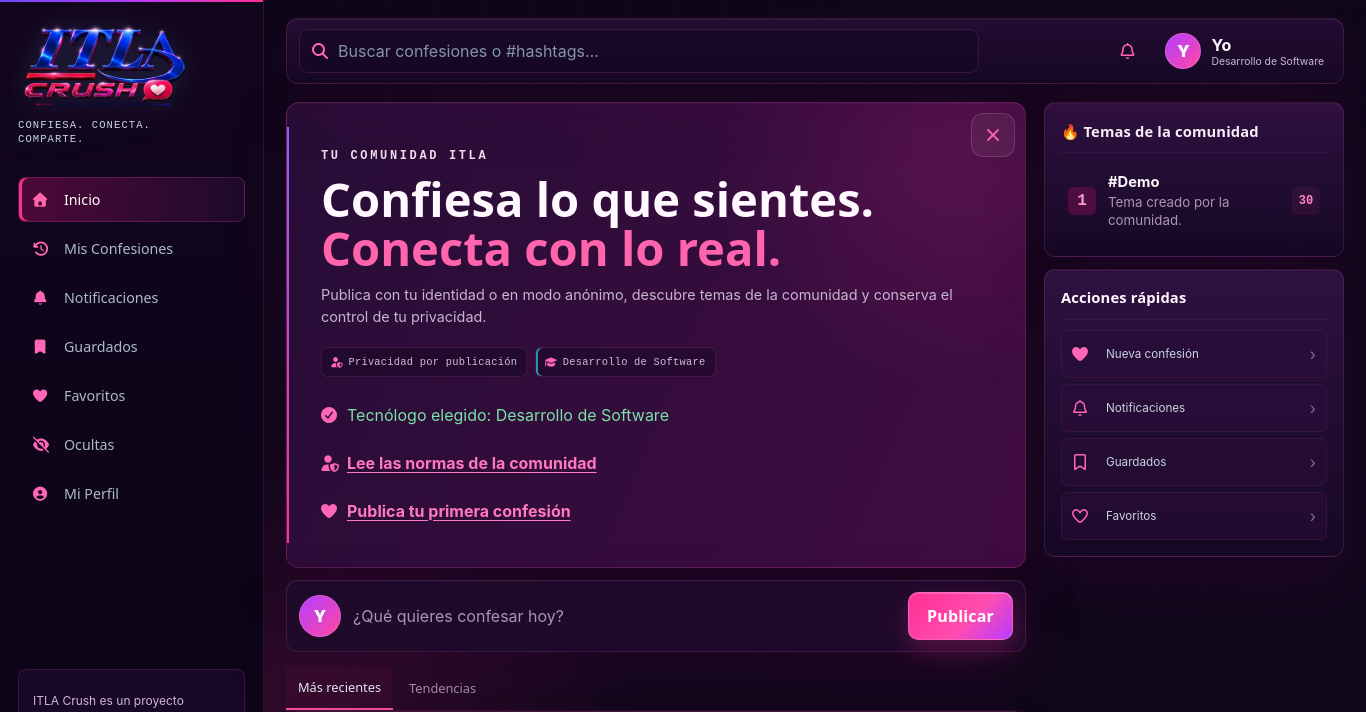
Test: fase 1: interfaz de red social › la bienvenida se puede cerrar y no vuelve a aparecer
Click the button named "Cerrar bienvenida" at (993, 135), box [971, 113, 1015, 157]
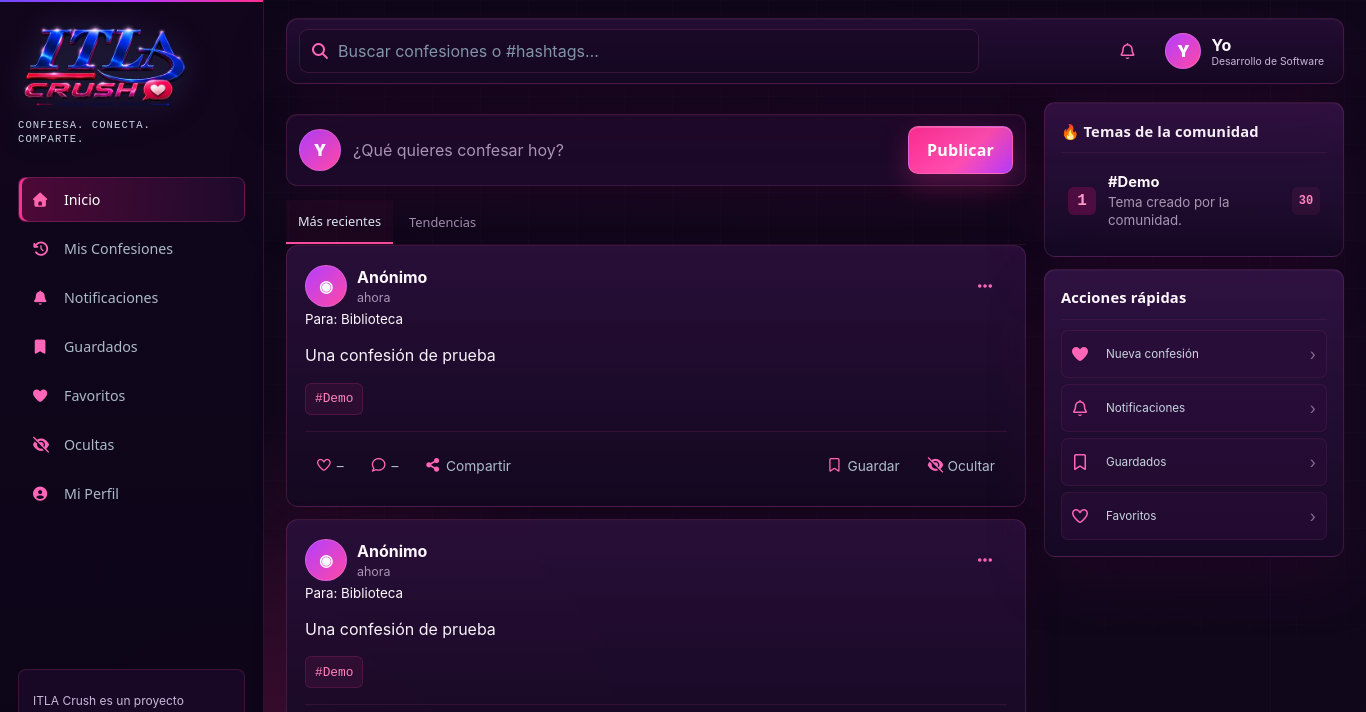
Now the button "Bienvenida" is gone
